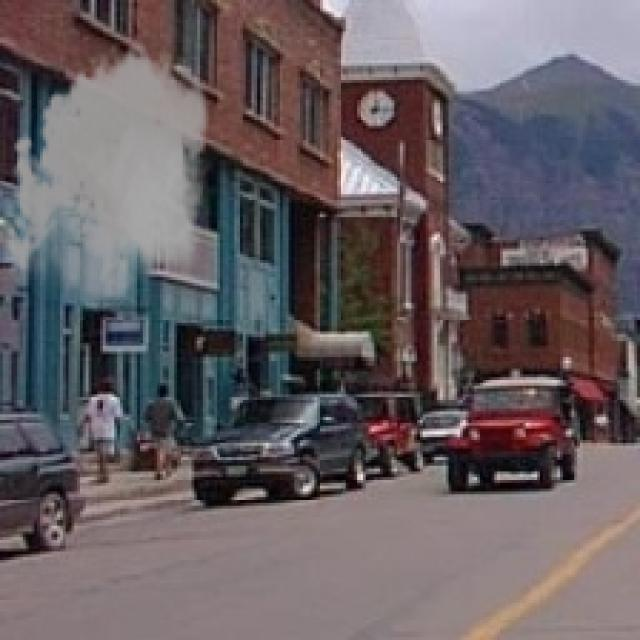Smoke: (0, 34, 217, 317)
